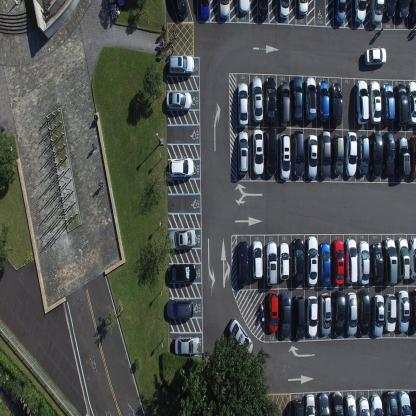car: (227, 317, 253, 358), (355, 77, 370, 125), (264, 125, 278, 175), (384, 236, 398, 285), (166, 227, 196, 249), (332, 289, 346, 336), (396, 135, 411, 178), (331, 238, 345, 284), (395, 82, 409, 127), (251, 74, 264, 122), (383, 128, 396, 176), (292, 129, 305, 177), (252, 127, 265, 175), (292, 236, 305, 284), (306, 234, 318, 286), (345, 236, 358, 284), (370, 240, 384, 284), (370, 130, 383, 177), (293, 292, 306, 339), (168, 262, 198, 282), (304, 74, 317, 120), (291, 74, 304, 120), (265, 240, 278, 286), (166, 89, 192, 112), (167, 53, 194, 75), (167, 297, 194, 319), (369, 80, 382, 125), (319, 129, 331, 177), (278, 132, 290, 180), (169, 155, 194, 178), (317, 78, 330, 122), (278, 79, 290, 126), (345, 130, 357, 177), (382, 82, 395, 125), (332, 132, 345, 175), (319, 292, 332, 335), (397, 289, 410, 332), (397, 236, 410, 279), (237, 80, 249, 126), (237, 129, 249, 175), (237, 240, 249, 286), (319, 240, 331, 286), (265, 74, 276, 124), (306, 133, 318, 178), (358, 239, 370, 284), (357, 134, 370, 175), (331, 81, 343, 125), (346, 291, 358, 335), (359, 288, 370, 336), (174, 334, 200, 354), (280, 290, 291, 337), (384, 293, 397, 332), (267, 290, 279, 332), (372, 294, 384, 336), (307, 294, 318, 336), (364, 46, 387, 66), (252, 239, 263, 280), (279, 241, 290, 281), (369, 0, 386, 25), (407, 80, 416, 126), (397, 390, 412, 415), (408, 135, 416, 179), (384, 390, 398, 415), (330, 390, 344, 415), (408, 237, 416, 280), (369, 392, 383, 416), (317, 390, 330, 415), (354, 0, 368, 22), (334, 0, 347, 23), (344, 394, 357, 416), (410, 288, 416, 334), (356, 396, 370, 415), (304, 392, 315, 416), (175, 0, 188, 20), (290, 397, 304, 415), (218, 0, 231, 19), (278, 0, 291, 19), (257, 0, 269, 19), (399, 0, 410, 19), (200, 0, 210, 20), (386, 0, 396, 19), (410, 0, 416, 27), (410, 388, 416, 415), (239, 0, 249, 15), (298, 0, 308, 15)
